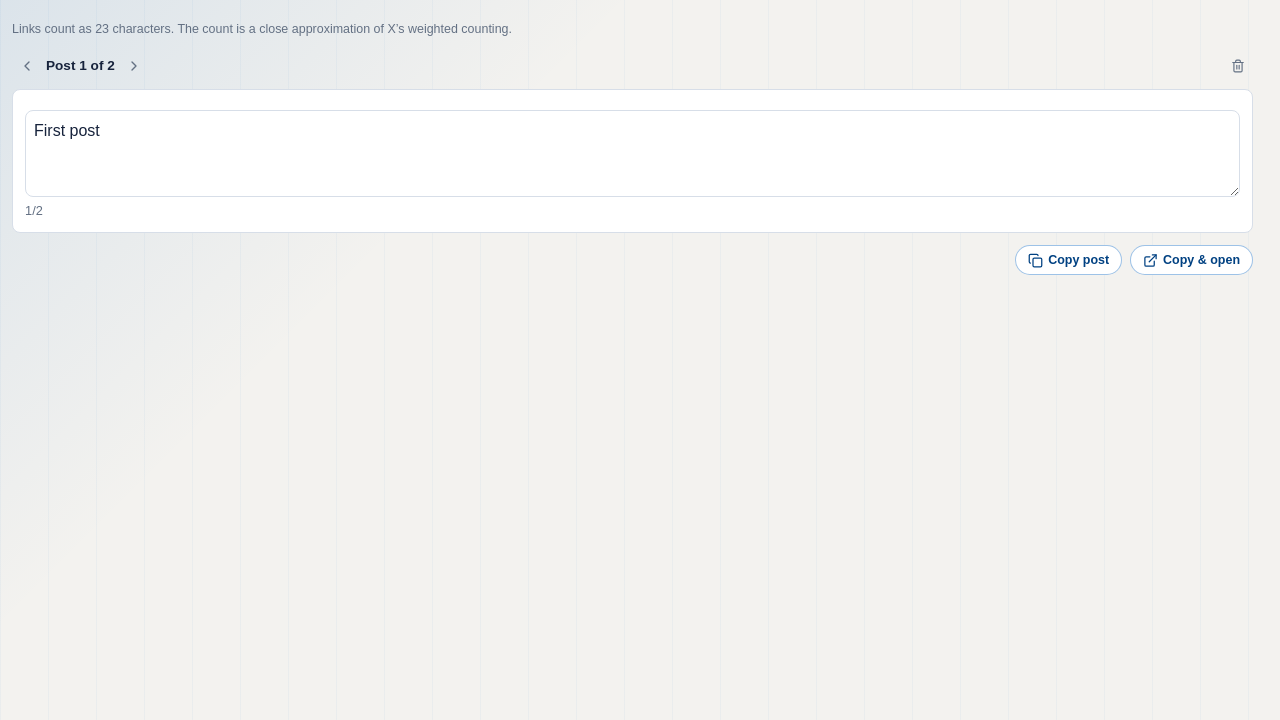
thread editor › disables duplicate copy actions and does not override navigation during a pending copy
Click the button named "Copy post 1".
click(1069, 260)  # box [1015,246,1122,276]
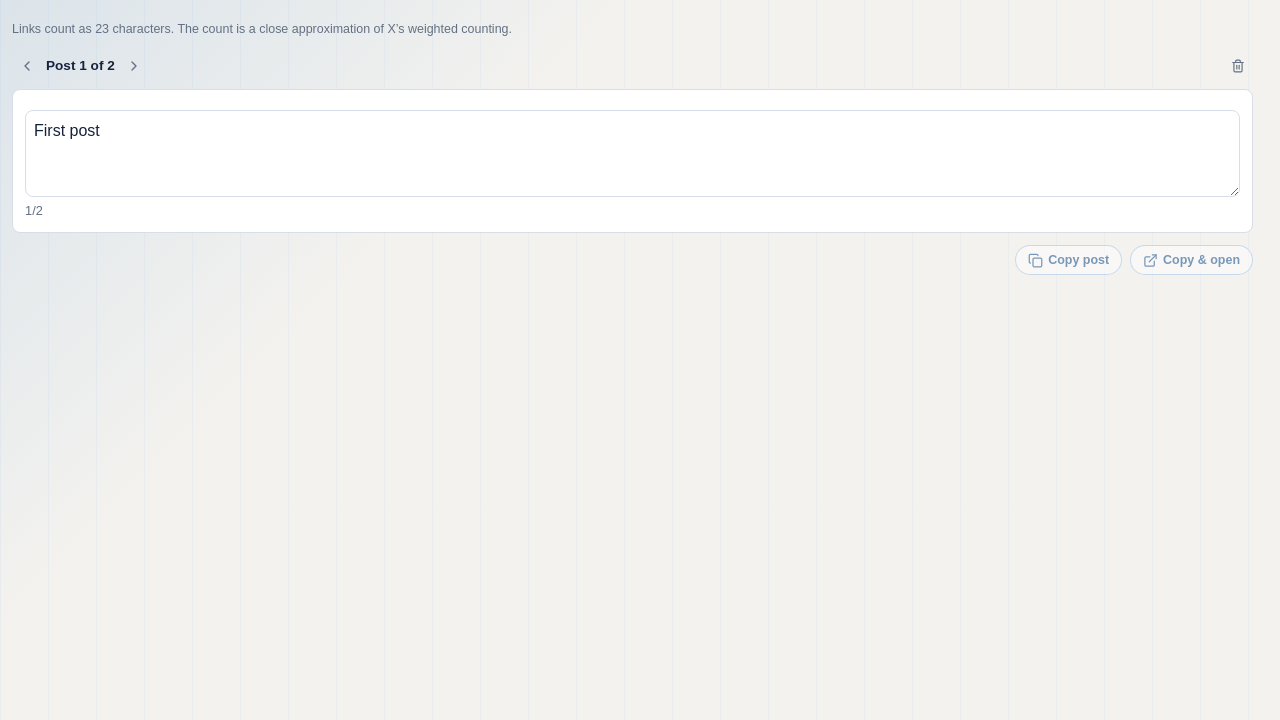
Check: the button named "Copy post 1" is disabled, box [1015,246,1122,276]
Check: the button named "Copy & open post 1" is disabled, box [1130,246,1253,276]
Click the button named "Next X thread post".
click(134, 66)  # box [119,51,149,81]
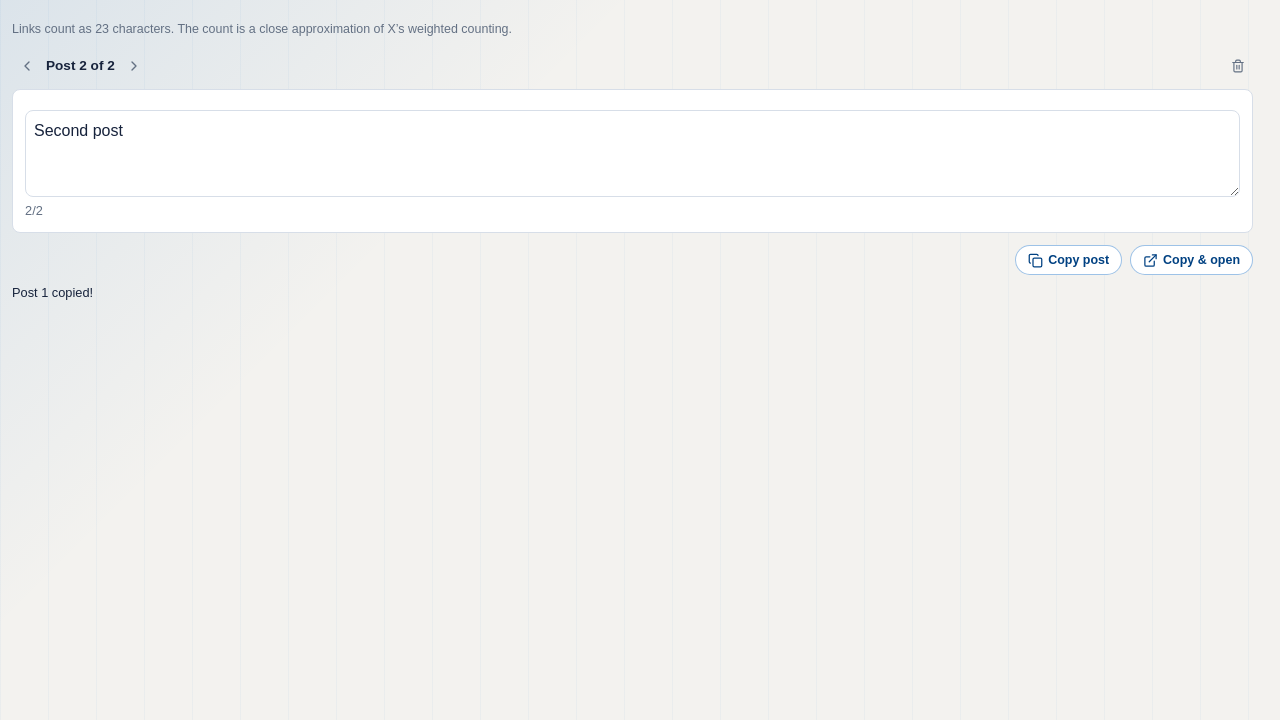
Check: the text box holds "Second post", box [25,110,1240,197]
Check: the button named "Copy post 2" is enabled, box [1015,246,1122,276]
